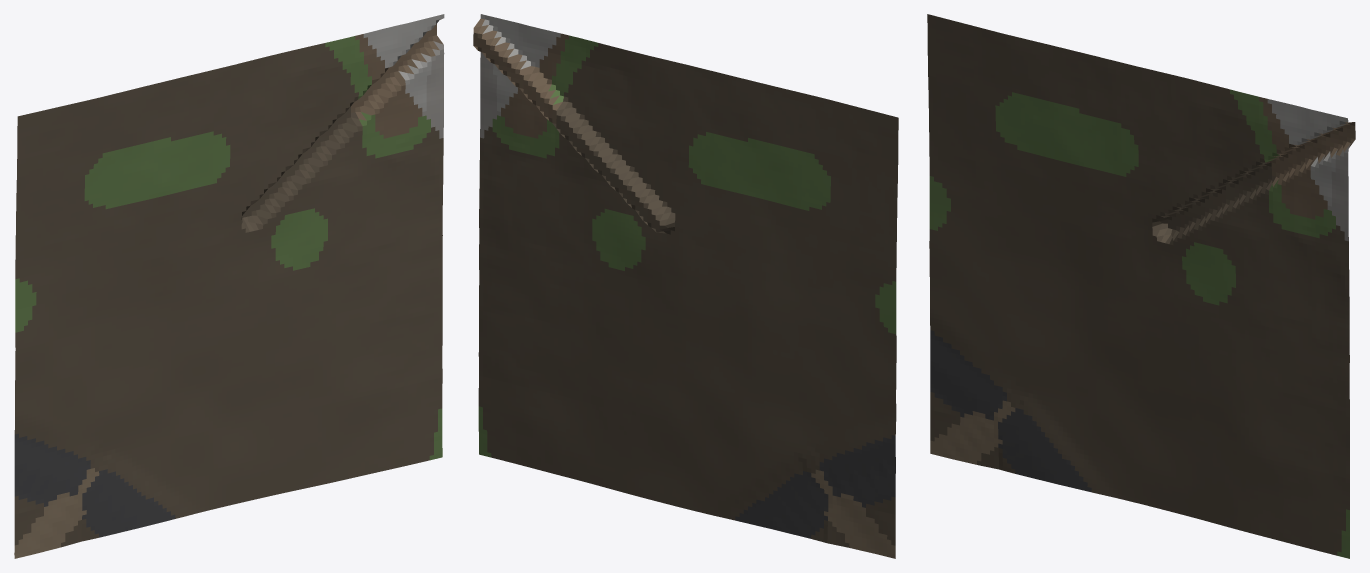
Rendered from SARM_SAR_Terrain_01_02.glb.
The picture shows the model from 3 angles, left to right: view 1: azimuth 30°, elevation 25°; view 2: azimuth 150°, elevation 25°; view 3: azimuth 330°, elevation 25°; orthographic projection.
Parts seen in each view (by area): view 1: SAR_Terrain_01_02.001; view 2: SAR_Terrain_01_02.001; view 3: SAR_Terrain_01_02.001.
Boxes of the visible parts, box(x1,y1,x2,y2) form: SAR_Terrain_01_02.001: box(14, 14, 444, 558); SAR_Terrain_01_02.001: box(473, 14, 898, 558); SAR_Terrain_01_02.001: box(927, 14, 1355, 558).
Size of the model in its own units: 50 by 50 by 2.15.
